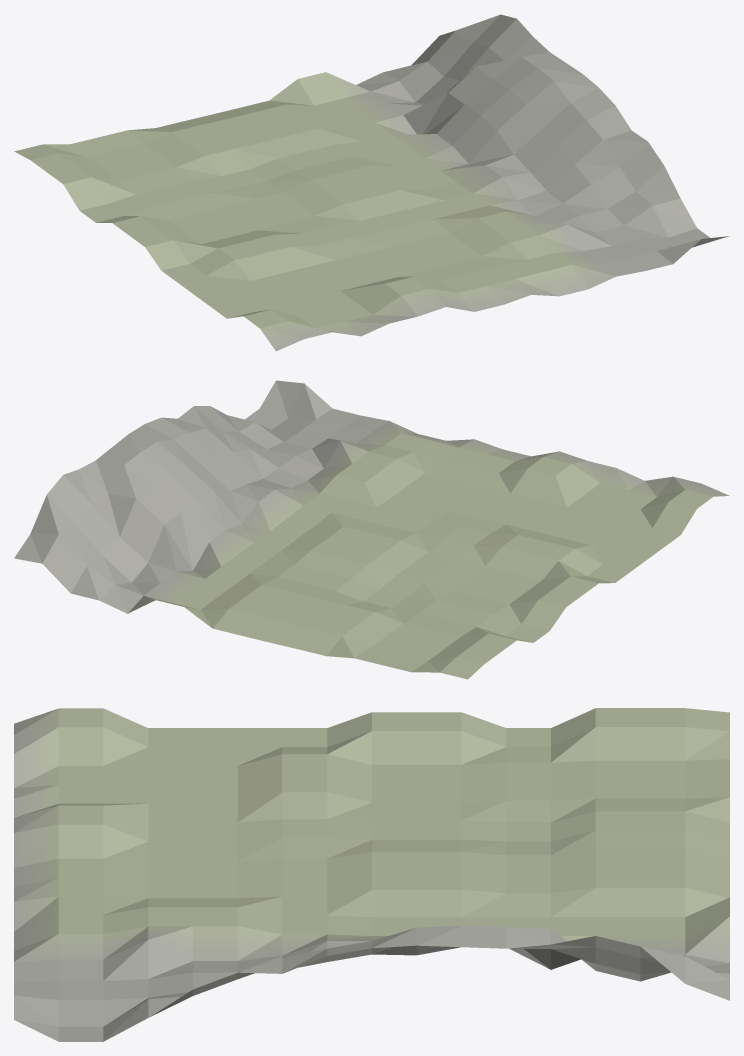
3 renders of one model, top to bottom at view 1: azimuth 30°, elevation 25°; view 2: azimuth 150°, elevation 25°; view 3: azimuth 270°, elevation 25°, orthographic. The views are drawn at different scales.
Bounding box in the file's own units: 32 × 5.41 × 32.
